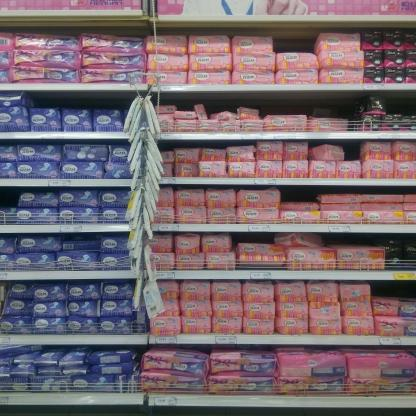Void: (27, 92, 133, 106), (264, 93, 312, 115), (317, 95, 355, 117), (274, 33, 315, 52), (372, 282, 413, 298), (326, 234, 377, 245), (209, 93, 238, 108), (280, 189, 316, 201), (389, 96, 413, 112), (236, 233, 272, 242), (0, 188, 16, 207), (346, 142, 359, 158)
